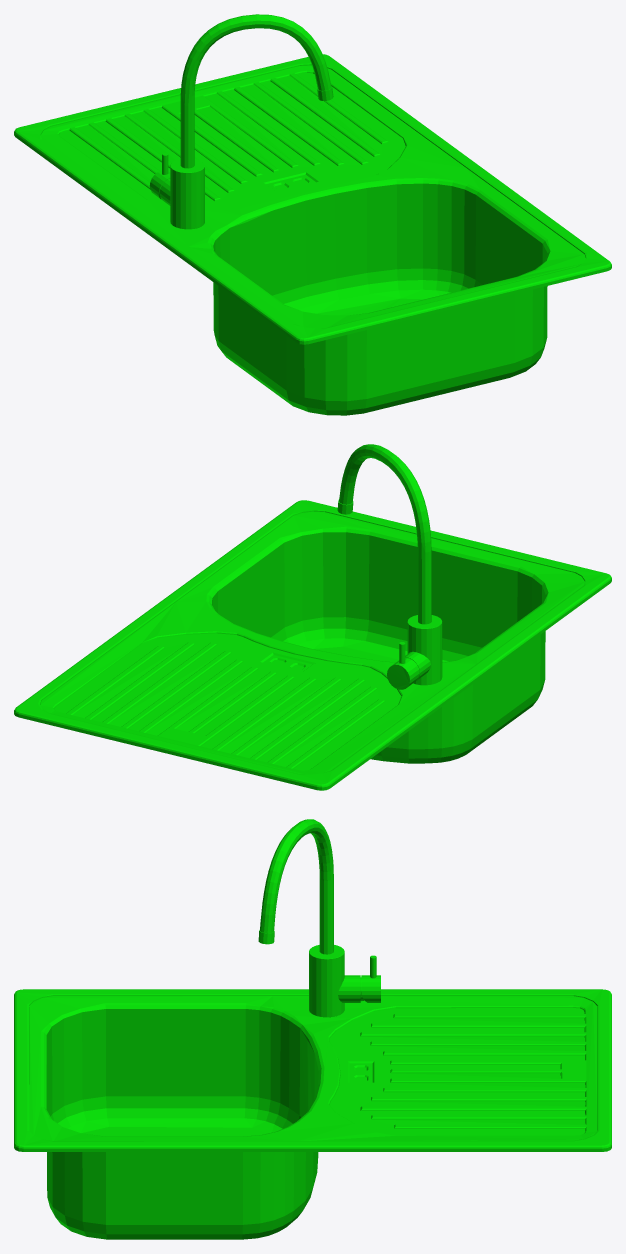
The model's file is Sink.fbx.
3 renders of one model, top to bottom at view 1: azimuth 30°, elevation 25°; view 2: azimuth 150°, elevation 25°; view 3: azimuth 270°, elevation 25°, orthographic. The views are drawn at different scales.
Visible parts, largest first — view 1: OM_1BHK_Kitchen_Cabinates_01_B_Sink; view 2: OM_1BHK_Kitchen_Cabinates_01_B_Sink; view 3: OM_1BHK_Kitchen_Cabinates_01_B_Sink.
Part boxes in pixels (bbox=[...]): OM_1BHK_Kitchen_Cabinates_01_B_Sink: bbox=[14, 14, 611, 415]; OM_1BHK_Kitchen_Cabinates_01_B_Sink: bbox=[14, 444, 611, 790]; OM_1BHK_Kitchen_Cabinates_01_B_Sink: bbox=[14, 819, 611, 1239].
Size of the model in its own units: 51.51 by 50.43 by 82.29.
